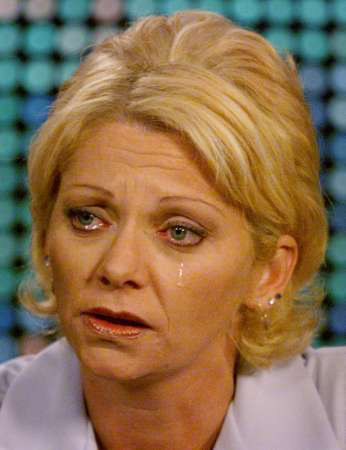Face: (27, 118, 250, 386)
